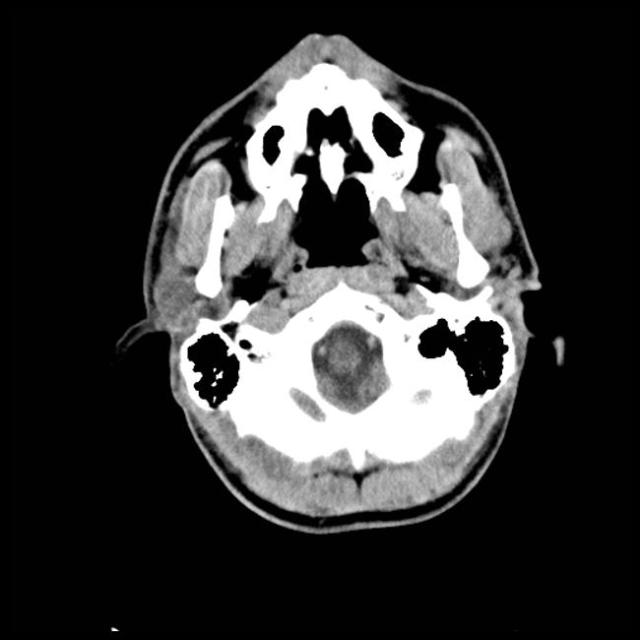lesion: (122, 32, 550, 534)
